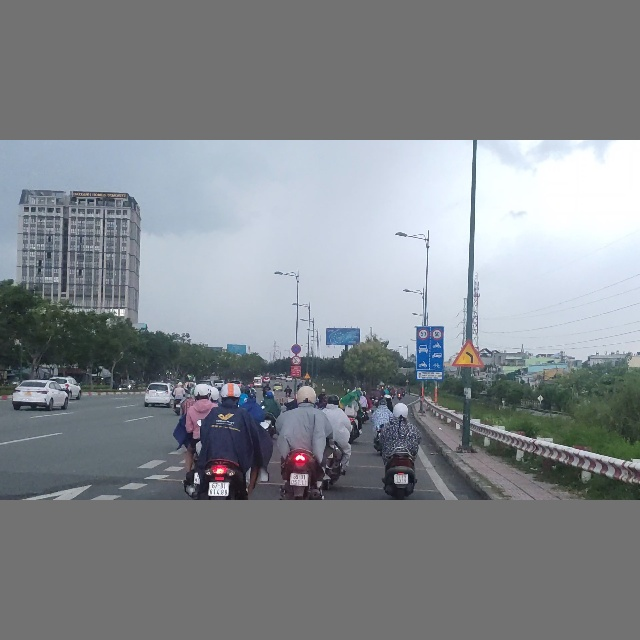P.111: (290, 355, 302, 366)
P.127*50: (416, 327, 429, 341), (431, 327, 442, 340)
P.130: (291, 344, 302, 355)
W.201a: (452, 337, 486, 368), (304, 372, 311, 379)
